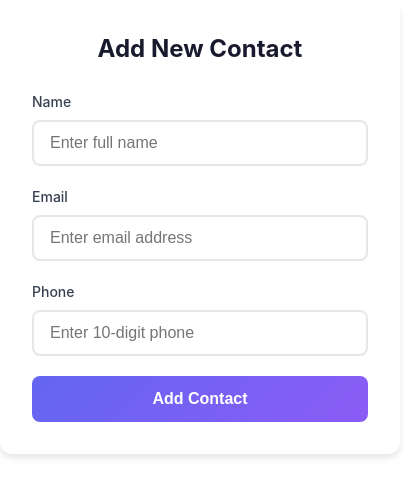
Test: ContactForm › shows validation error for short name
Type "A" into the field labelled "Name". click: coordinates (200, 143)
box: [32,120,368,166]
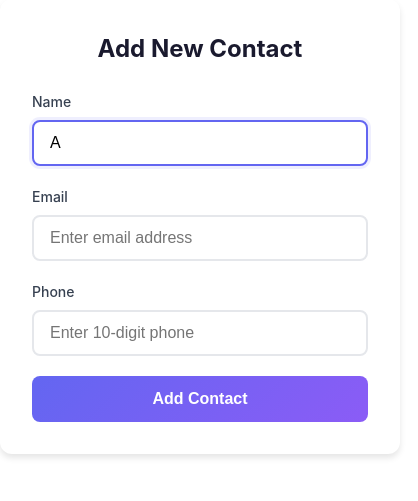
Leave the field labelled "Name", box [32,120,368,166]
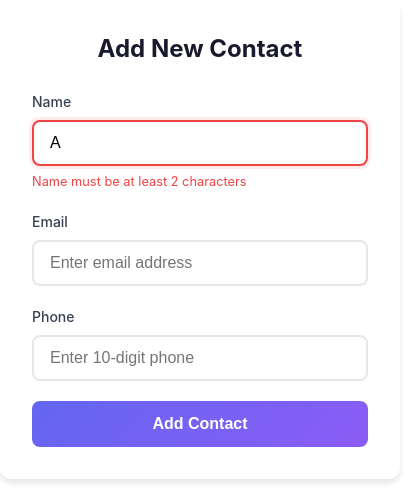
Expected: the text "Name must be at least 2 characters" is shown, [32,174,247,189]
